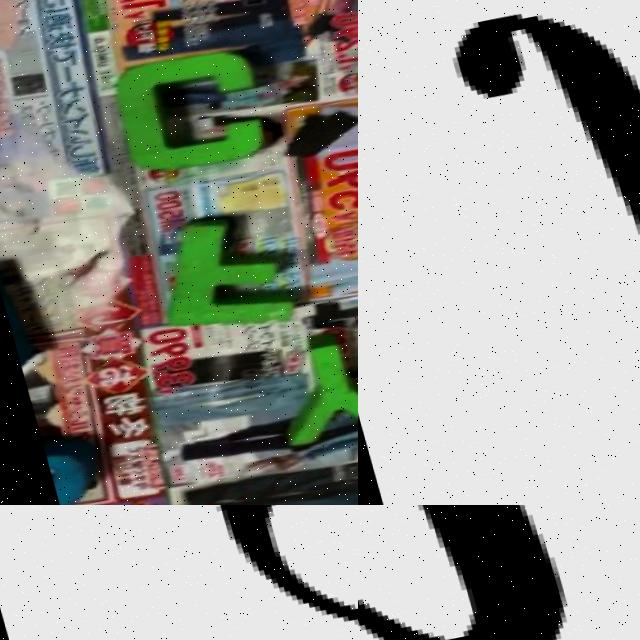8: (4, 505, 358, 640)
C: (106, 44, 266, 179)
F: (137, 200, 298, 341)
J: (426, 0, 640, 505)
N: (358, 505, 640, 640)
Y: (247, 318, 358, 452)
